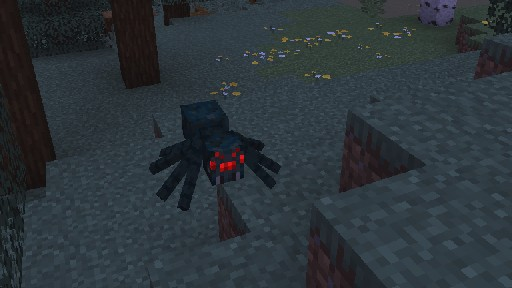cave_spider: (148, 98, 281, 211)
